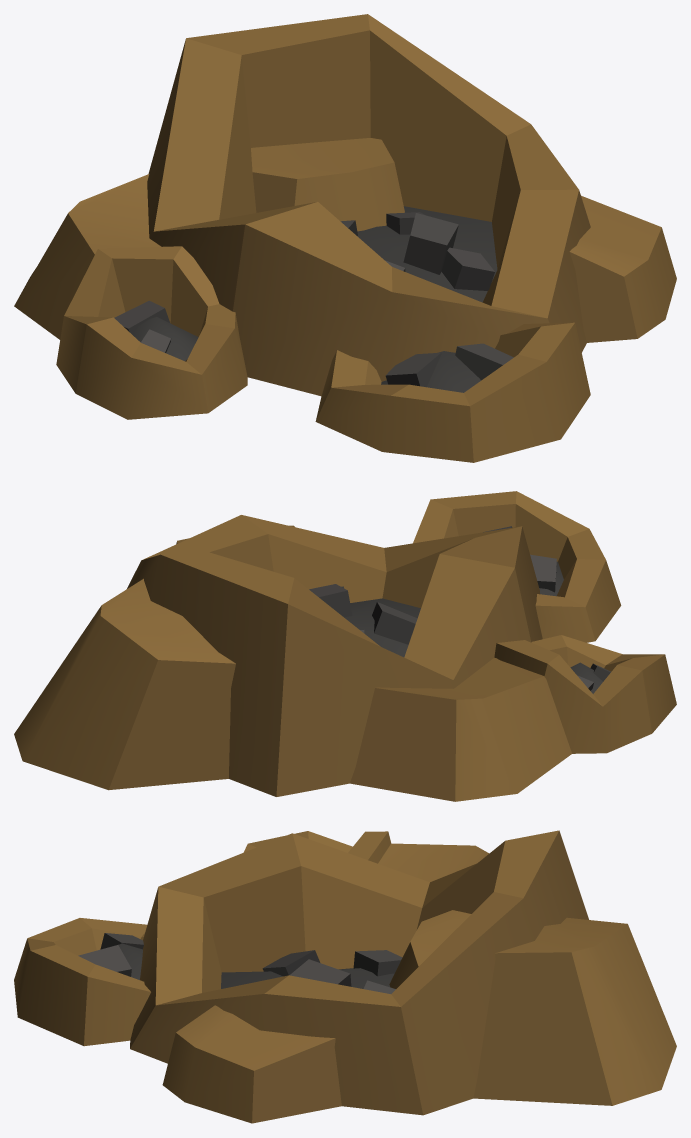
File: SF_Prop_Goblin_Forge_01.fbx
The picture shows the model from 3 angles, top to bottom: view 1: azimuth 30°, elevation 25°; view 2: azimuth 150°, elevation 25°; view 3: azimuth 270°, elevation 25°; orthographic projection. The views are drawn at different scales.
Parts seen in each view (by area): view 1: SF_Prop_Goblin_Forge_01; view 2: SF_Prop_Goblin_Forge_01; view 3: SF_Prop_Goblin_Forge_01.
Part boxes in pixels (bbox=[...]): SF_Prop_Goblin_Forge_01: bbox=[14, 14, 676, 462]; SF_Prop_Goblin_Forge_01: bbox=[14, 491, 676, 801]; SF_Prop_Goblin_Forge_01: bbox=[14, 830, 676, 1123].
Bounding box in the file's own units: 4.07 × 1.28 × 4.76.
